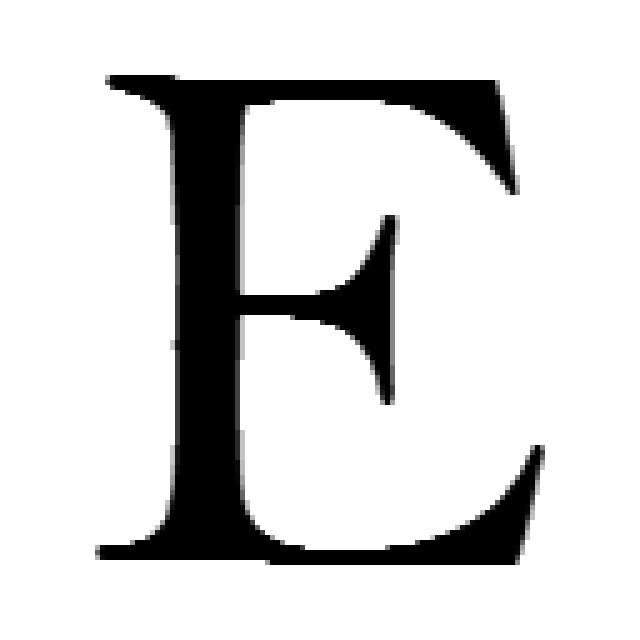E: (95, 75, 545, 565)
